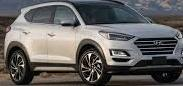Crossovers: (6, 2, 183, 85)
